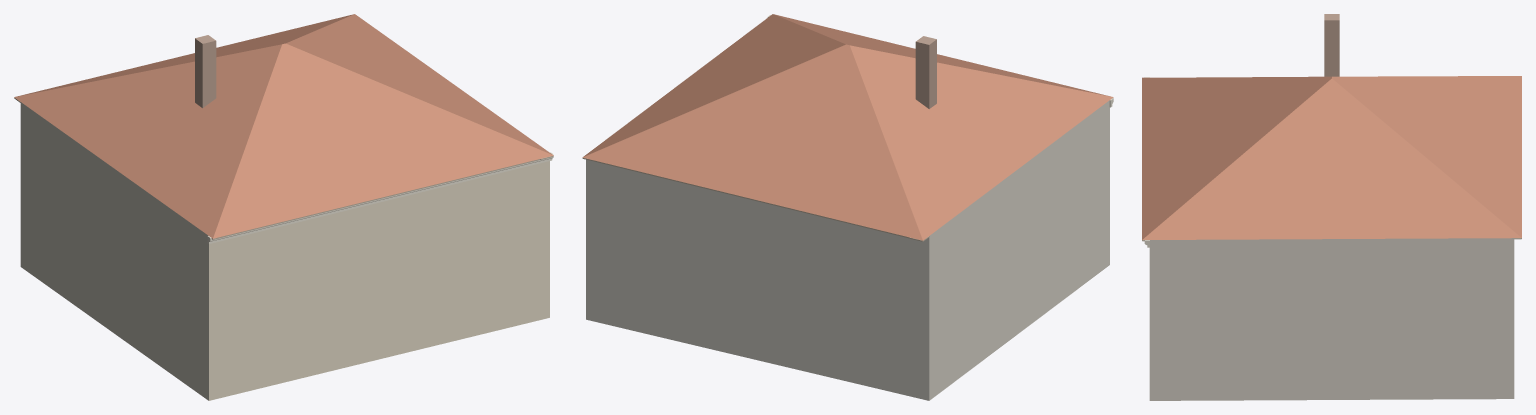
3 views of the same model, side by side, from view 1: azimuth 30°, elevation 25°; view 2: azimuth 150°, elevation 25°; view 3: azimuth 270°, elevation 25° (orthographic). The views are drawn at different scales.
Parts seen in each view (by area): view 1: CP_1084_Masonry, CP_1084_Roof, CP_1084_Chimney_0, CP_1084_Cornice_main_0, CP_1084_Roof_EaveClosure_0; view 2: CP_1084_Masonry, CP_1084_Roof, CP_1084_Chimney_0, CP_1084_Roof_EaveClosure_2; view 3: CP_1084_Roof, CP_1084_Masonry, CP_1084_Chimney_0.
Boxes of the visible parts, box(x1,y1,x2,y2) form: CP_1084_Masonry: box(20, 102, 549, 400); CP_1084_Roof: box(14, 14, 553, 238); CP_1084_Chimney_0: box(195, 35, 216, 108); CP_1084_Cornice_main_0: box(207, 152, 553, 243); CP_1084_Roof_EaveClosure_0: box(211, 159, 539, 239); CP_1084_Masonry: box(586, 100, 1109, 400); CP_1084_Roof: box(582, 14, 1113, 240); CP_1084_Chimney_0: box(915, 36, 936, 108); CP_1084_Roof_EaveClosure_2: box(595, 160, 929, 241); CP_1084_Roof: box(1142, 76, 1521, 239); CP_1084_Masonry: box(1149, 238, 1514, 400); CP_1084_Chimney_0: box(1324, 14, 1339, 76).
Size of the model in its own units: 15.37 by 11.5 by 14.98.
